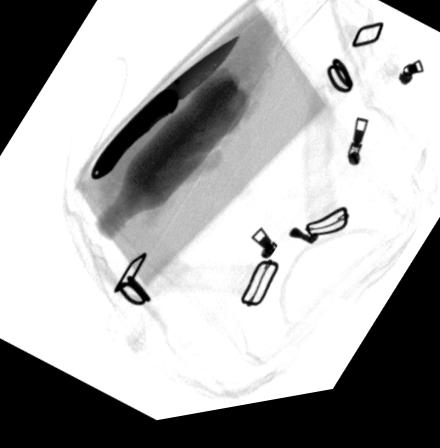Knife: (89, 40, 243, 183)
